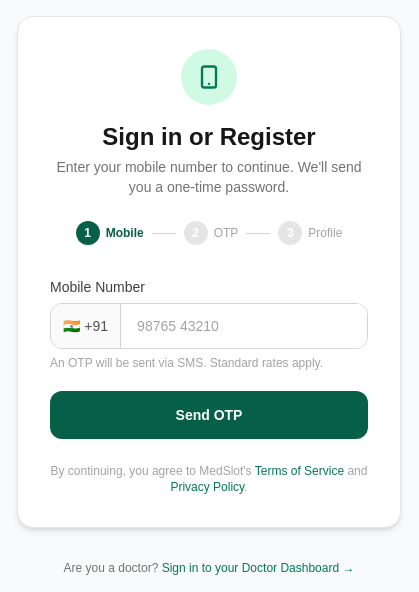
Test: PatientOtpAuth › Step 1 — Phone entry › advances to step 2 after successful OTP send
The width and height of the screenshot is (419, 592).
Type "9876543210" into the field labelled "Mobile Number" at (244, 326), box [121,304,367,348]
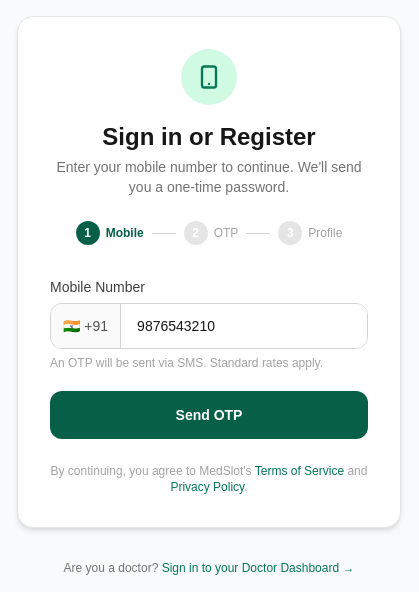
Click the button "Send OTP" at (209, 415), box [50,391,368,439]
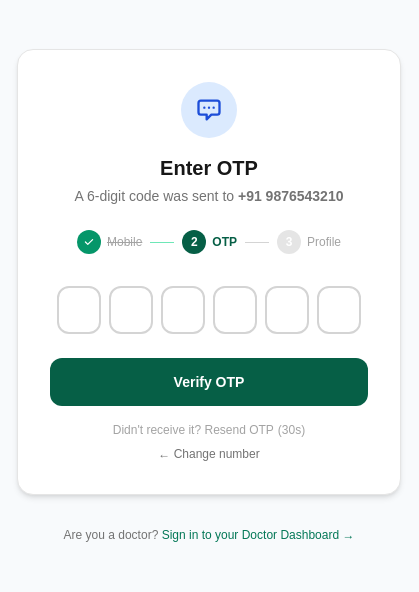
Now the heading "Enter OTP" is shown, box [160,157,258,179]
